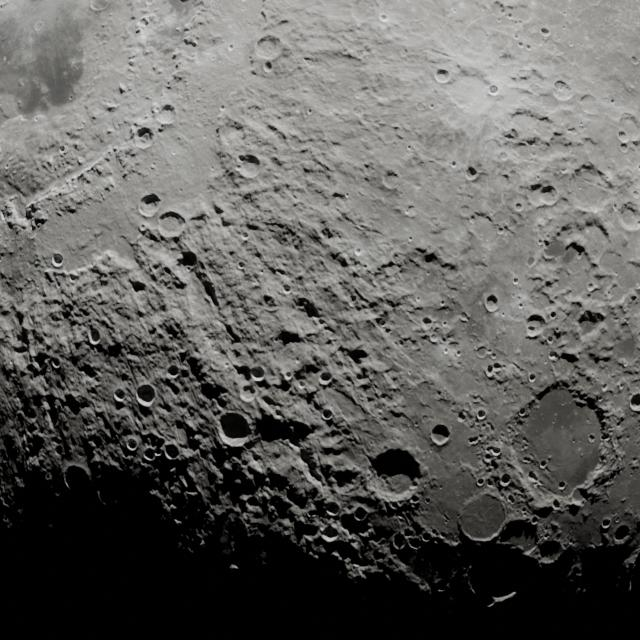crater: (366, 450, 426, 502), (457, 492, 511, 544), (496, 515, 542, 560), (216, 411, 252, 450), (535, 536, 566, 566), (156, 210, 187, 238), (62, 461, 88, 492), (133, 380, 157, 408), (428, 421, 454, 446), (137, 192, 163, 216), (157, 101, 175, 130), (163, 439, 184, 463), (524, 314, 544, 338), (612, 522, 631, 545), (482, 294, 503, 314), (134, 128, 154, 148), (124, 436, 138, 454), (50, 251, 63, 268)
